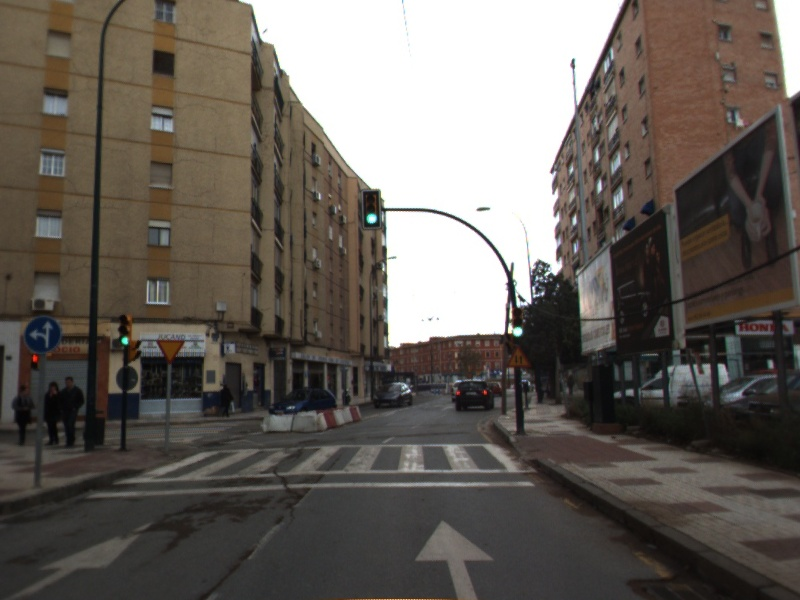STRAIGHT: (6, 515, 163, 600), (412, 516, 499, 600)
